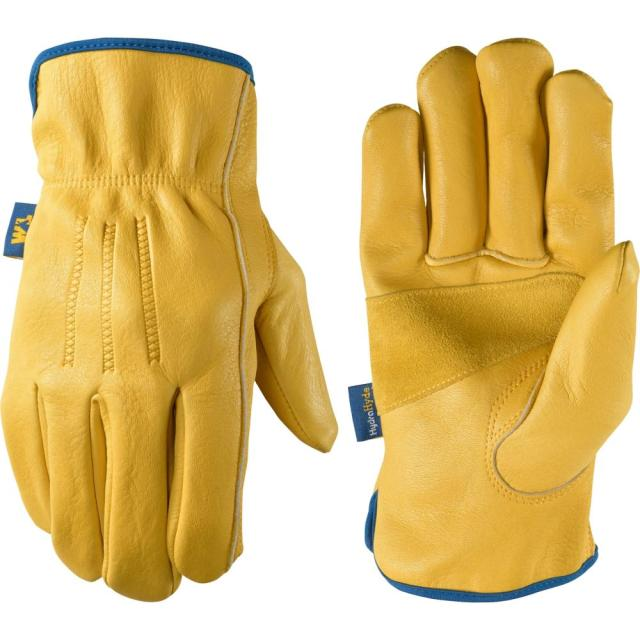gloves: (3, 31, 340, 608), (353, 31, 640, 606)
